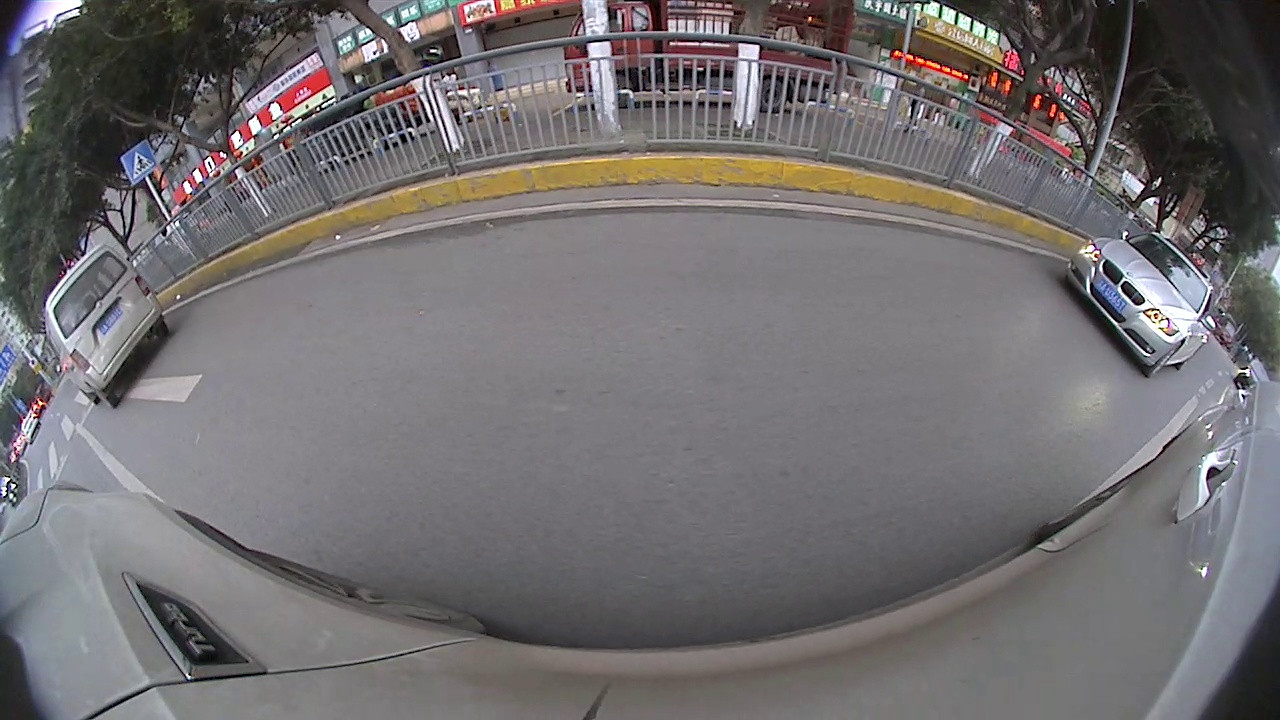car: (1059, 224, 1223, 381), (41, 245, 176, 416)
rear: (757, 77, 790, 111)
truck: (562, 4, 858, 115)
